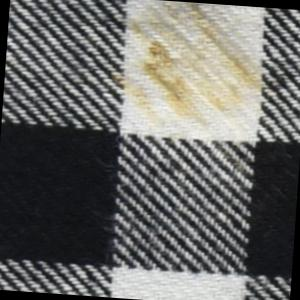Oil Stain: (107, 1, 272, 137)
